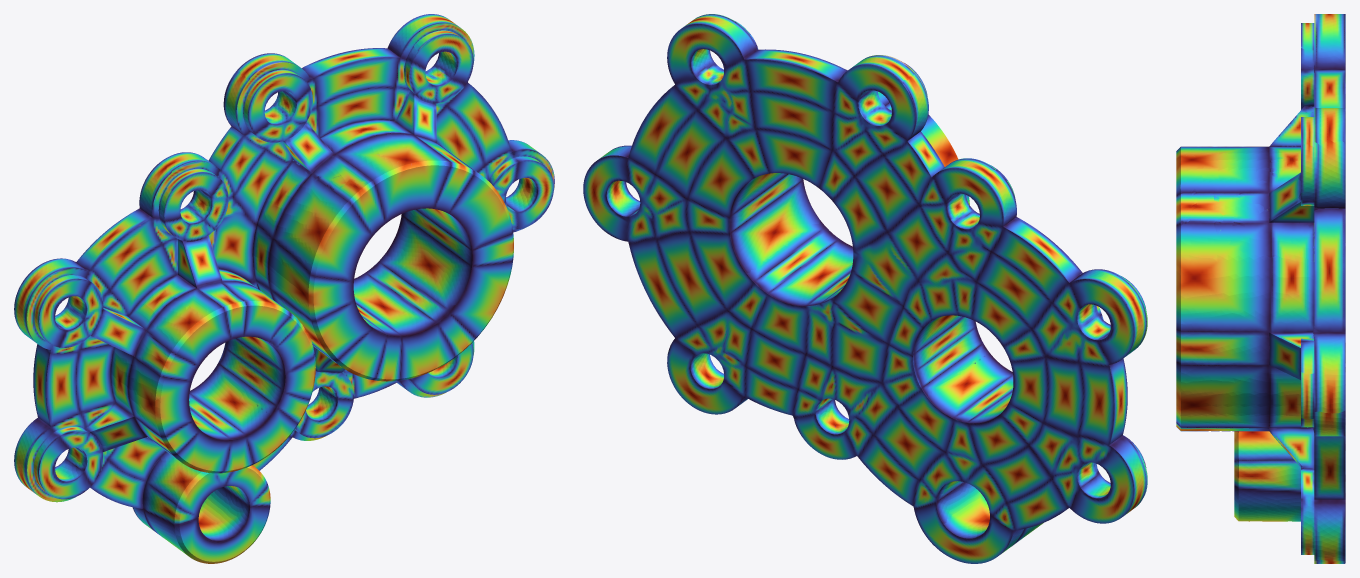
The model's file is gen1.glb.
The picture shows the model from 3 angles, left to right: view 1: azimuth 30°, elevation 25°; view 2: azimuth 150°, elevation 25°; view 3: azimuth 270°, elevation 25°; orthographic projection. The views are drawn at different scales.
Parts seen in each view (by area): view 1: Node; view 2: Node; view 3: Node.
Boxes of the visible parts, left/top/right/bottom form: Node: left=14, top=14, right=554, bottom=563; Node: left=583, top=14, right=1147, bottom=563; Node: left=1176, top=14, right=1345, bottom=563.
Bounding box in the file's own units: 164 × 135 × 38.03.
1 material, 1 textured.
